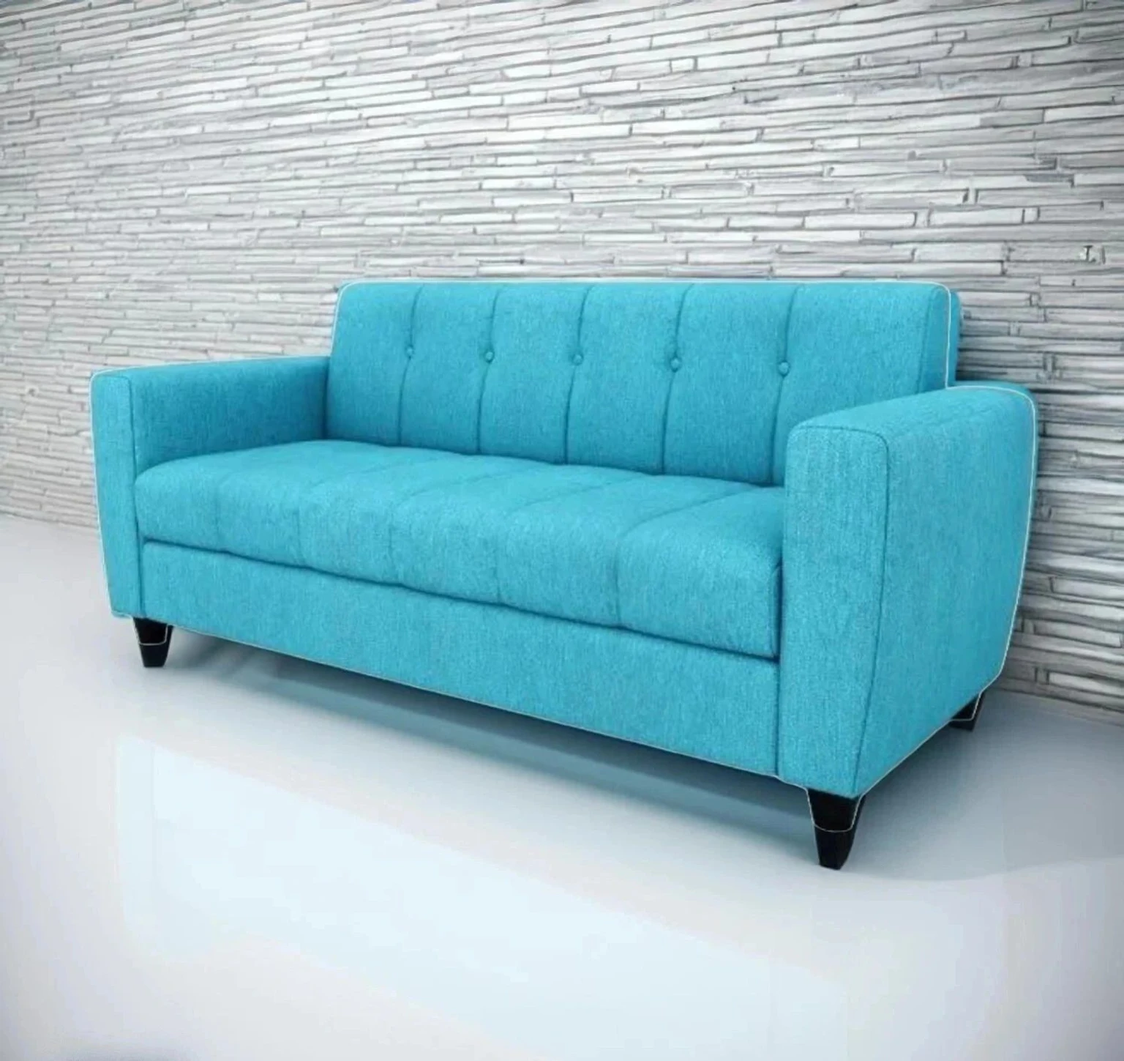3seatersofa: (90, 279, 1037, 868)
backrest: (328, 281, 959, 484)
base: (140, 542, 782, 774)
leftarmrest: (779, 383, 1037, 796)
leg: (808, 790, 864, 869), (133, 619, 172, 666), (947, 691, 984, 730)
rightarmrest: (91, 357, 329, 616)
seat: (138, 440, 782, 657)
